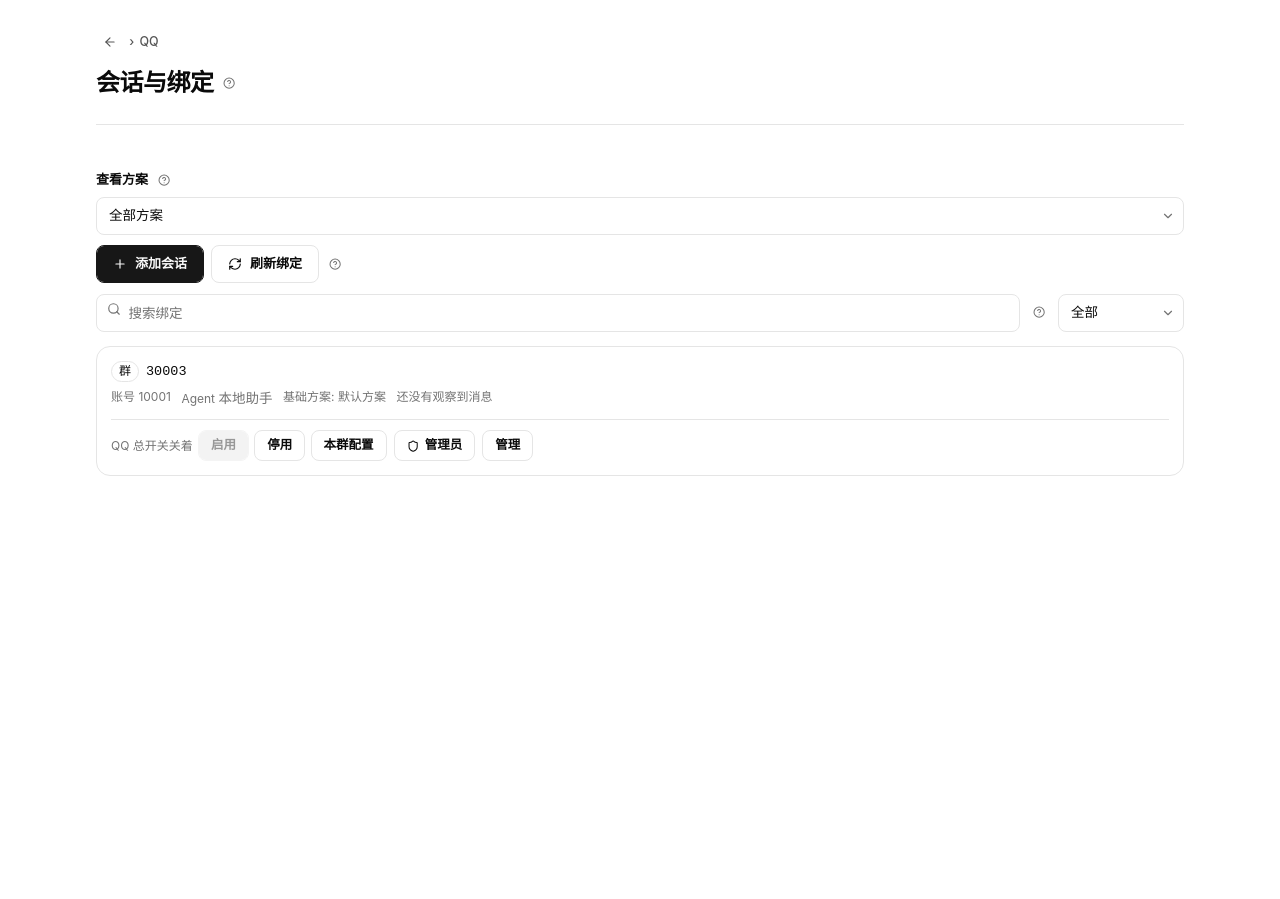
Test: QQ Admin Navigation & Integration › displays saved binding Agent as active scope, indicating pending uncommitted reassignment
Click the button "管理员" at (434, 446), box [394,430,475,461]
(page scrolled)
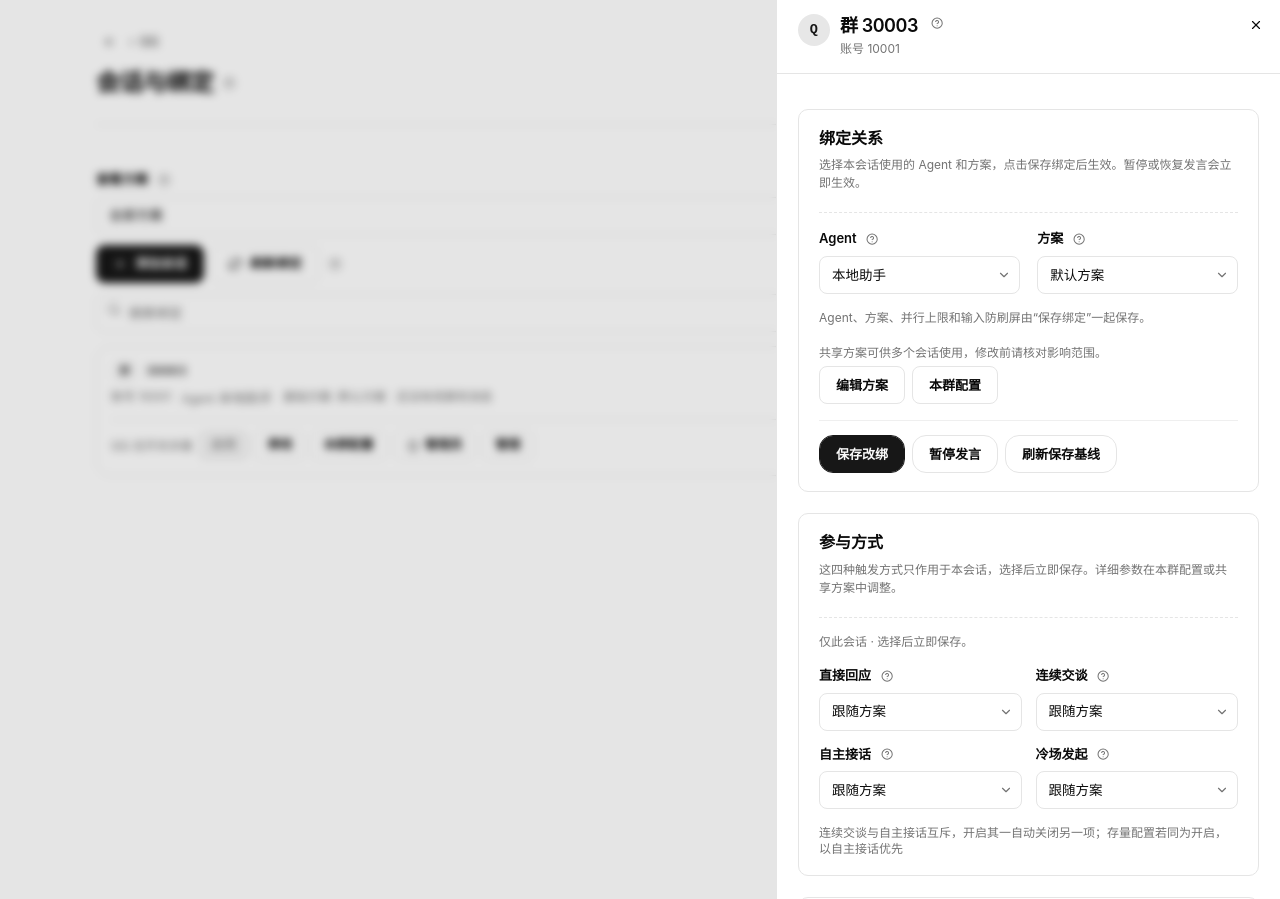
Select "夜间助手" in the dropdown labelled "Agent" at (919, 275), box [819,256,1020,294]
(page scrolled)
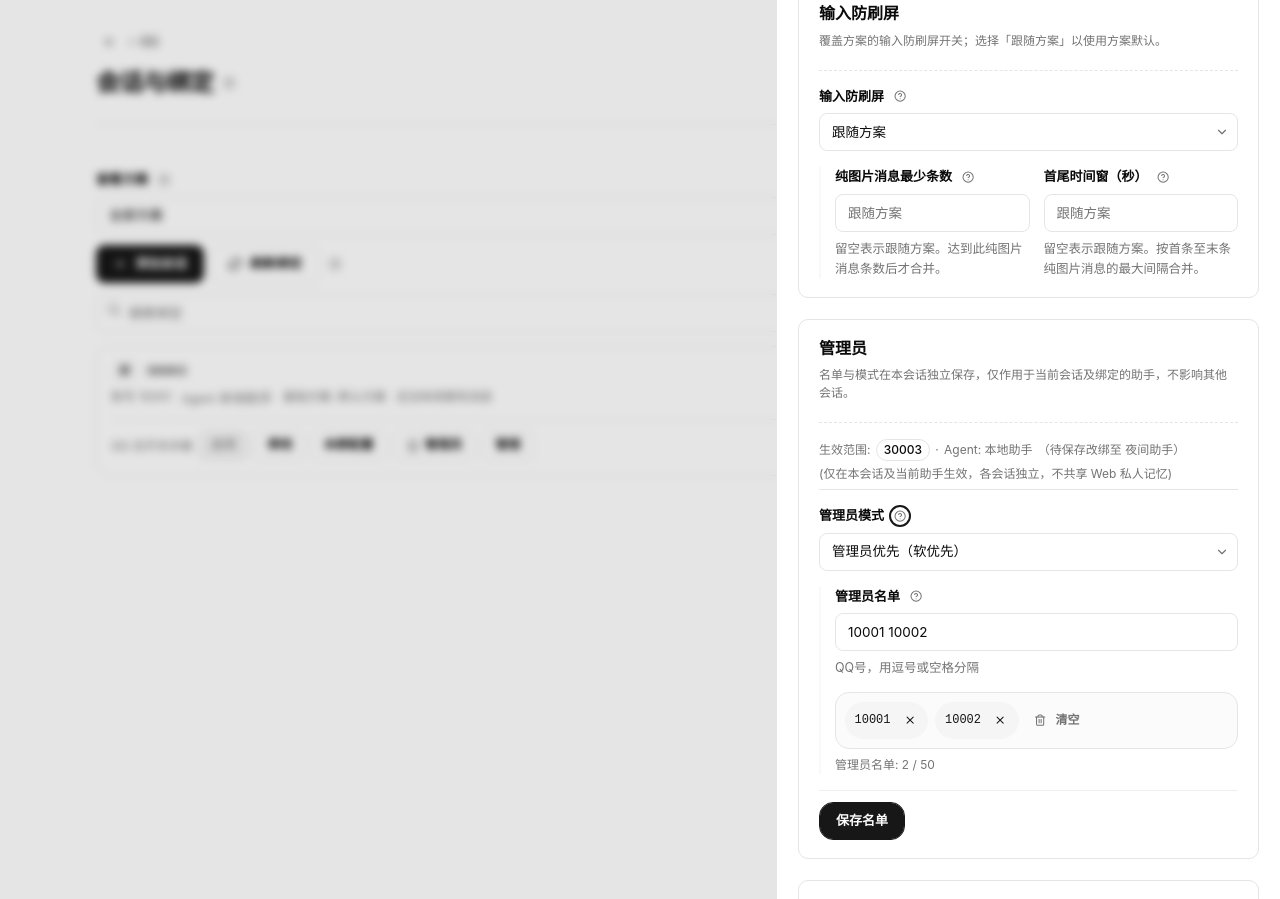
Expected: the text "Agent: 本地助手" is shown, [944,442,1032,458]
Expected: the text "（待保存改绑至 夜间助手）" is shown, [1038,442,1185,458]
